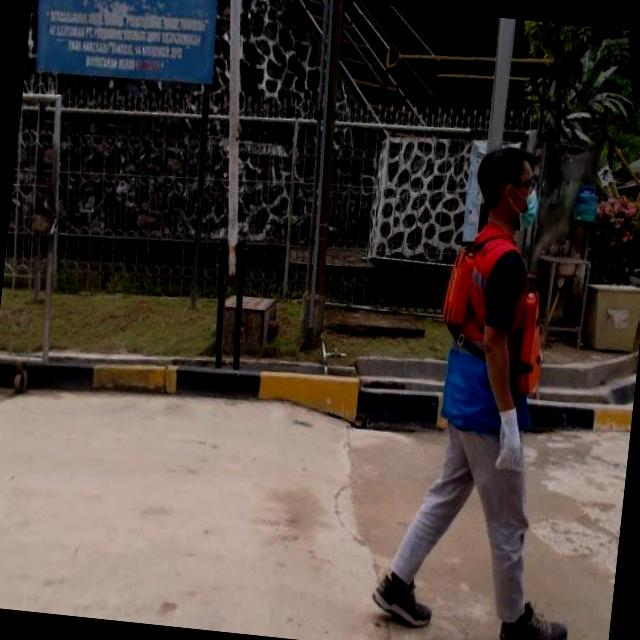vest: (429, 220, 556, 441)
